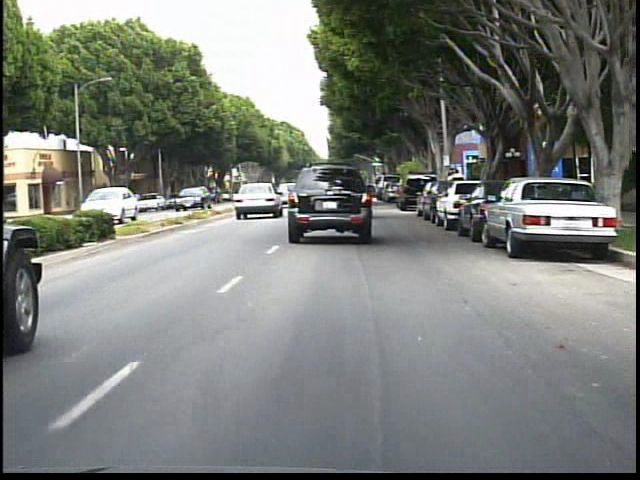person: (451, 168, 467, 205)
